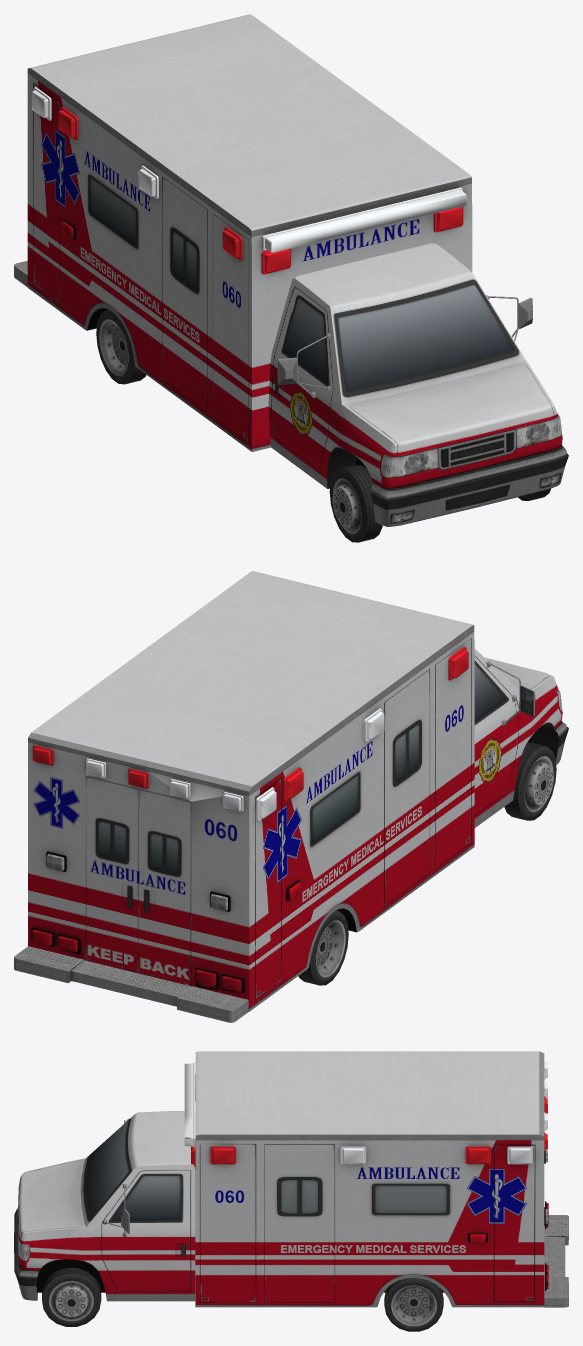
The model's file is ambulance.glb.
3 views of the same model, one above another, from view 1: azimuth 30°, elevation 25°; view 2: azimuth 150°, elevation 25°; view 3: azimuth 270°, elevation 25° (orthographic). The views are drawn at different scales.
Visible parts, largest first — view 1: Ambulance_Body, Light_White_1, Wheel_0, Wheel_1; view 2: Ambulance_Body, Wheel_0, Wheel_1; view 3: Ambulance_Body, Wheel_2, Wheel_3, Light_White_1, Light_White_13, Light_Red_14, Light_Red_12, Light_White_15.
Boxes of the visible parts, x1=… form: Ambulance_Body: x1=14, y1=14, x2=568, y2=526; Light_White_1: x1=262, y1=187, x2=466, y2=252; Wheel_0: x1=329, y1=464, x2=382, y2=542; Wheel_1: x1=96, y1=309, x2=146, y2=384; Ambulance_Body: x1=14, y1=571, x2=568, y2=1022; Wheel_0: x1=504, y1=742, x2=556, y2=820; Wheel_1: x1=298, y1=910, x2=348, y2=985; Ambulance_Body: x1=14, y1=1051, x2=568, y2=1307; Wheel_2: x1=42, y1=1268, x2=101, y2=1326; Wheel_3: x1=384, y1=1278, x2=443, y2=1331; Light_White_1: x1=184, y1=1062, x2=195, y2=1147; Light_White_13: x1=340, y1=1146, x2=366, y2=1164; Light_Red_14: x1=465, y1=1146, x2=491, y2=1164; Light_Red_12: x1=210, y1=1146, x2=235, y2=1164; Light_White_15: x1=507, y1=1146, x2=532, y2=1164.
Size of what is drawn, in the model's own units: 2.77 by 2.66 by 6.73.
Materials: 17 (1 with a texture image).
